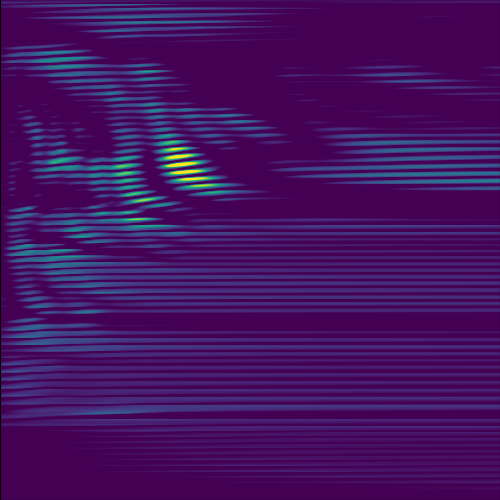semblance: (157, 136, 229, 197)
